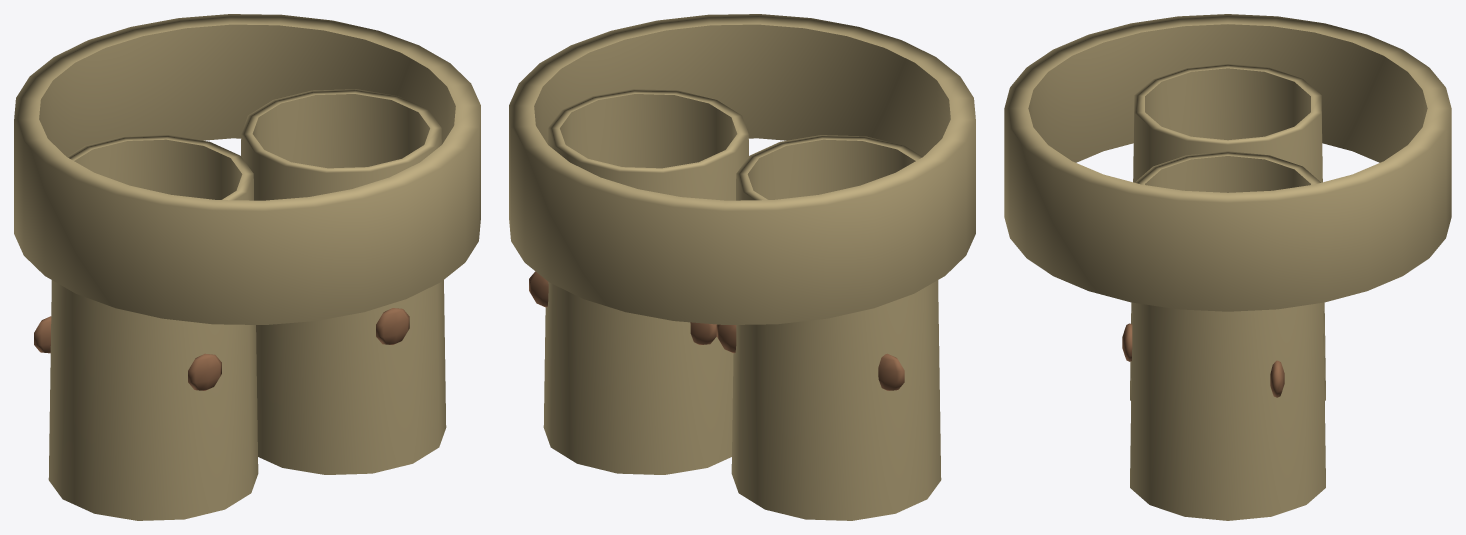
File: camo_pants.glb
3 views of the same model, side by side, from view 1: azimuth 30°, elevation 25°; view 2: azimuth 150°, elevation 25°; view 3: azimuth 270°, elevation 25° (orthographic). The views are drawn at different scales.
Visible parts, largest first — view 1: camo_pants_Body, camo_pants_LegL, camo_pants_LegR; view 2: camo_pants_Body, camo_pants_LegL, camo_pants_LegR; view 3: camo_pants_Body, camo_pants_LegR, camo_pants_LegL.
Boxes of the visible parts, box(x1,y1,x2,y2) form: camo_pants_Body: box(14, 14, 480, 324); camo_pants_LegL: box(34, 135, 258, 520); camo_pants_LegR: box(241, 89, 446, 474); camo_pants_Body: box(509, 14, 975, 324); camo_pants_LegL: box(716, 135, 941, 520); camo_pants_LegR: box(529, 89, 748, 474); camo_pants_Body: box(1004, 14, 1451, 311); camo_pants_LegR: box(1122, 151, 1325, 520); camo_pants_LegL: box(1130, 63, 1325, 400).
Bounding box in the file's own units: 0.41 × 0.33 × 0.41.
